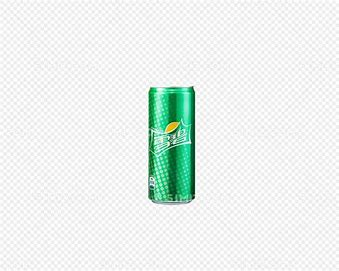Sprite: (147, 83, 197, 207)
